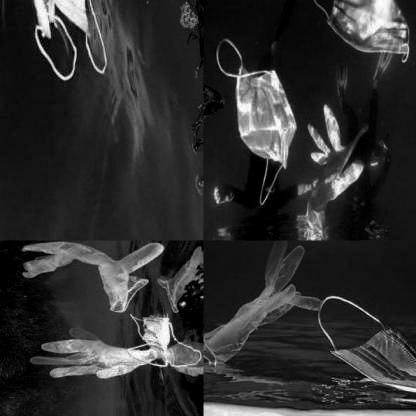Mask: (214, 38, 296, 206), (318, 283, 416, 395), (25, 0, 110, 82), (313, 0, 413, 62), (123, 315, 171, 369)
glove: (204, 240, 320, 367), (20, 241, 157, 313), (304, 98, 370, 240), (26, 324, 161, 380)
